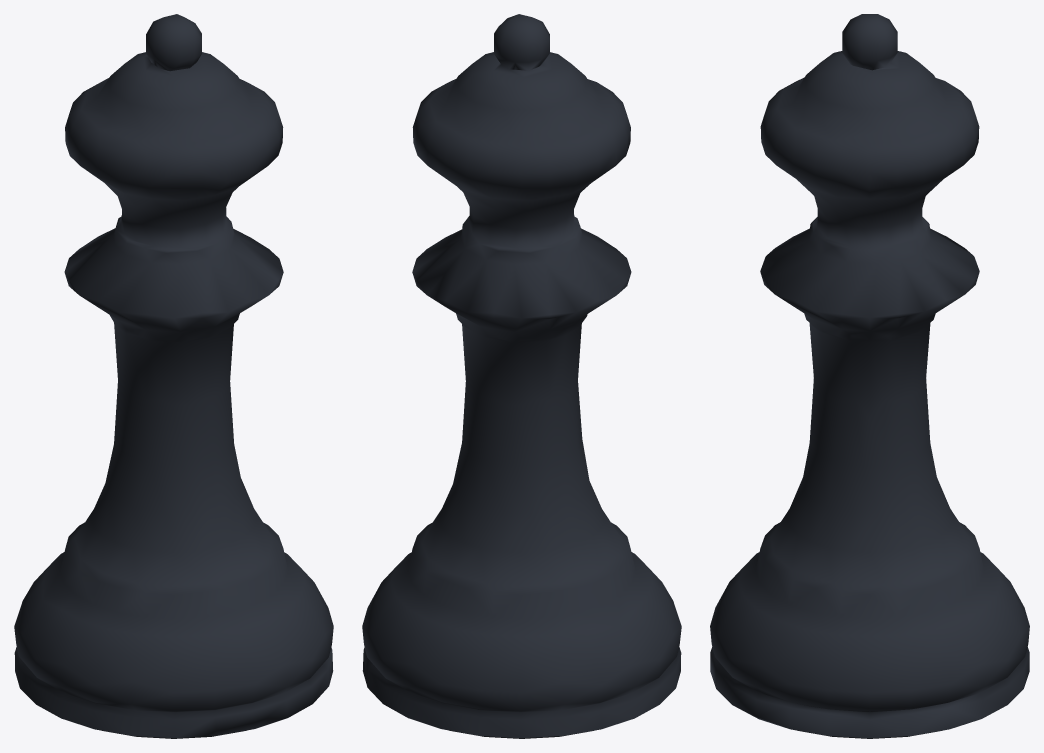
The model's file is xadrez_rainha_preto_pacote.glb.
3 views of the same model, side by side, from view 1: azimuth 30°, elevation 25°; view 2: azimuth 150°, elevation 25°; view 3: azimuth 270°, elevation 25° (orthographic).
Visible parts, largest first — view 1: xadrez_rainha_preto_pacote; view 2: xadrez_rainha_preto_pacote; view 3: xadrez_rainha_preto_pacote.
Boxes of the visible parts, bbox=[...] form: xadrez_rainha_preto_pacote: bbox=[14, 14, 333, 738]; xadrez_rainha_preto_pacote: bbox=[362, 14, 681, 738]; xadrez_rainha_preto_pacote: bbox=[710, 14, 1029, 738].
Size of the model in its own units: 0.0399 by 0.0909 by 0.0399.
1 material, 1 textured.
